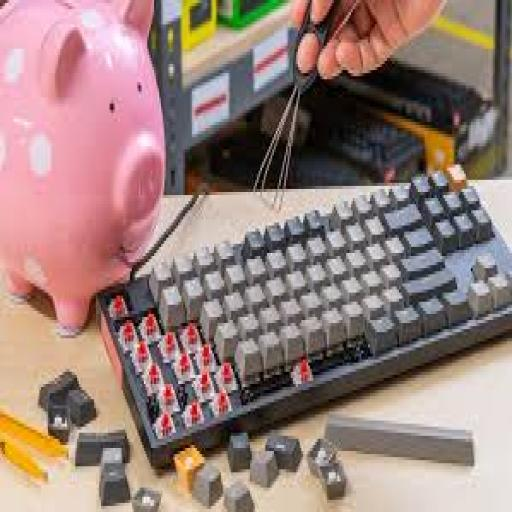KEYBOARD-2: (99, 165, 510, 466)
